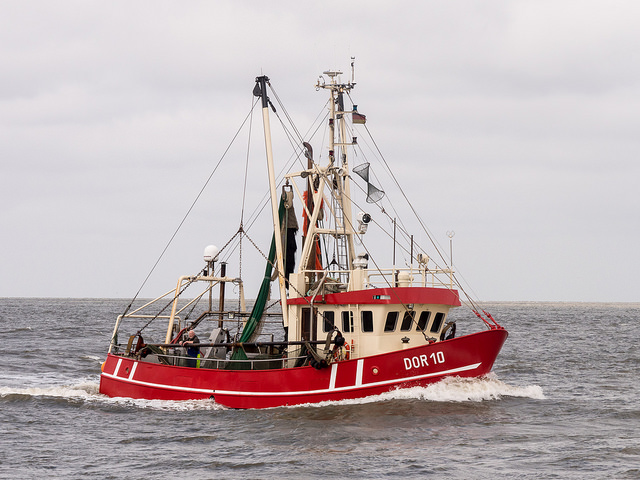fishing_boat: (98, 59, 516, 402)
